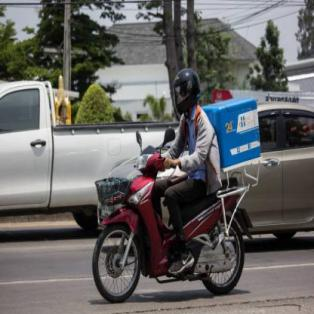Motocicleta: (90, 137, 248, 305)
